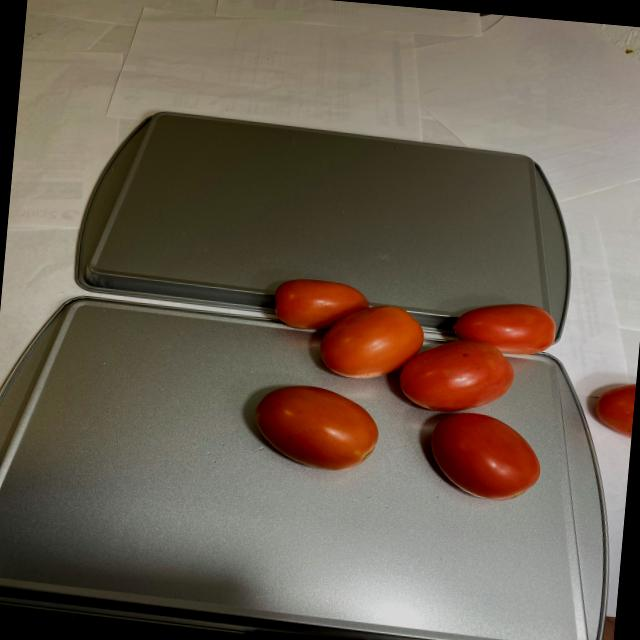tomato: (239, 276, 640, 508)
